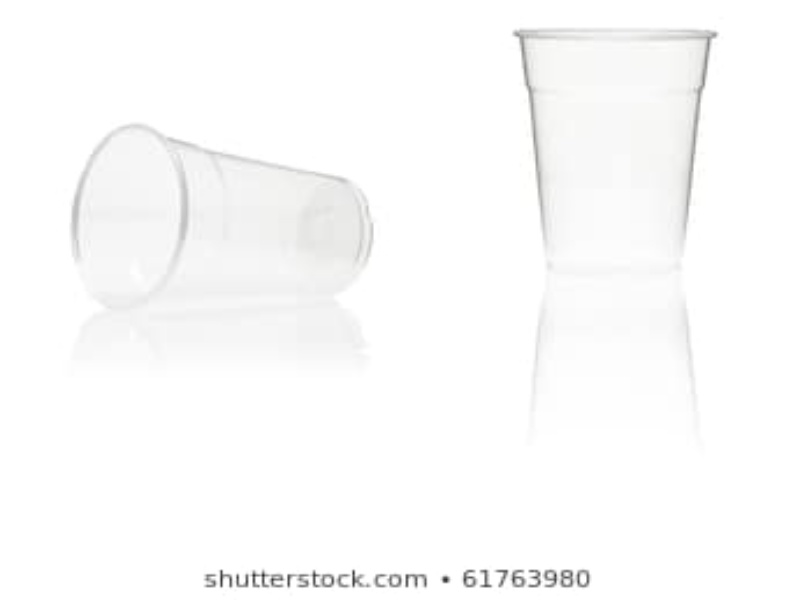plastic-cup: (64, 122, 380, 307), (509, 24, 716, 275)
